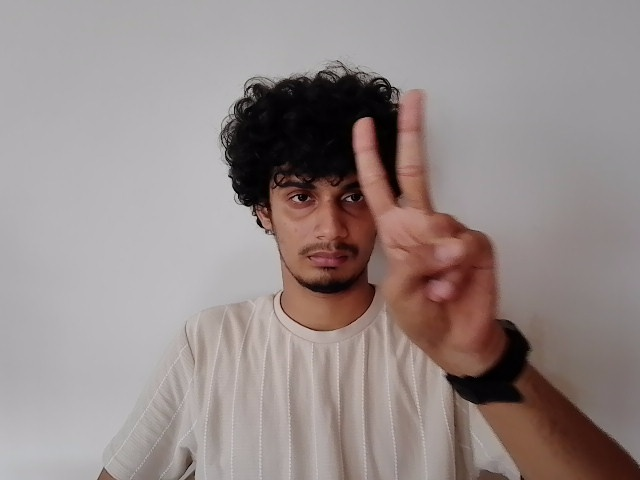travel: (353, 85, 507, 340)
